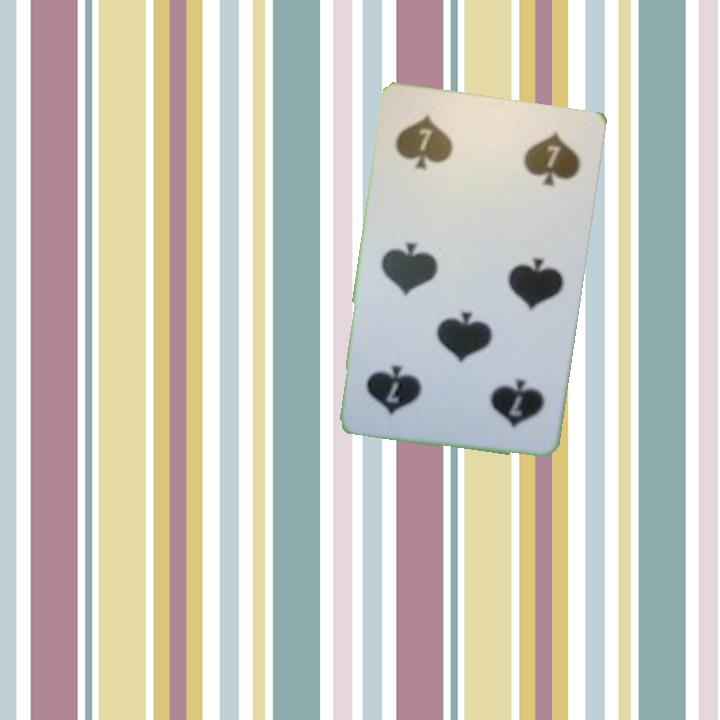s_7.png: (444, 346, 555, 445), (385, 99, 496, 198)
